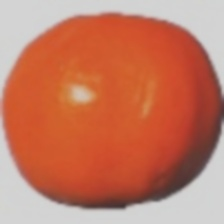tangerine: (0, 28, 194, 164)
